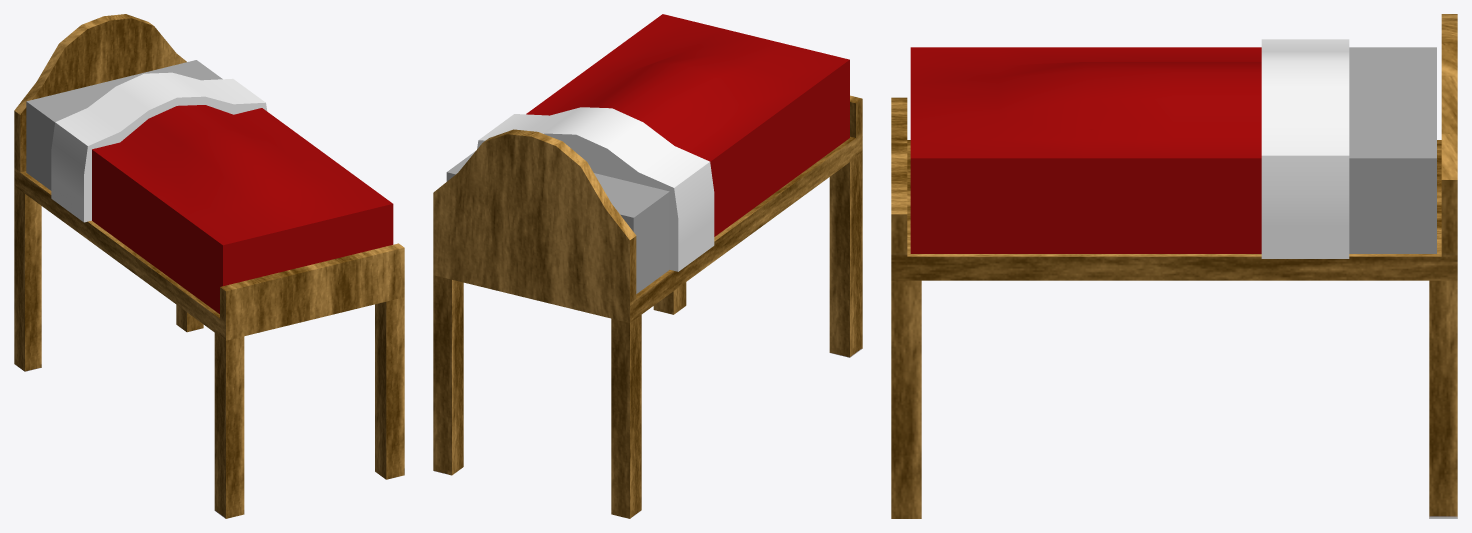
Rendered from Bed.fbx.
3 views of the same model, side by side, from view 1: azimuth 30°, elevation 25°; view 2: azimuth 150°, elevation 25°; view 3: azimuth 270°, elevation 25° (orthographic). The views are drawn at different scales.
Visible parts, largest first — view 1: pCube3, pCube2; view 2: pCube2, pCube3; view 3: pCube3, pCube2.
Boxes of the visible parts, <box> form: pCube3: <box>26,60,393,313</box>; pCube2: <box>14,14,404,518</box>; pCube2: <box>433,95,862,518</box>; pCube3: <box>446,14,849,293</box>; pCube3: <box>910,39,1436,258</box>; pCube2: <box>891,14,1457,518</box>.
Size of the model in its own units: 2.18 by 3.66 by 4.3.
Materials: 2 (2 with a texture image).
